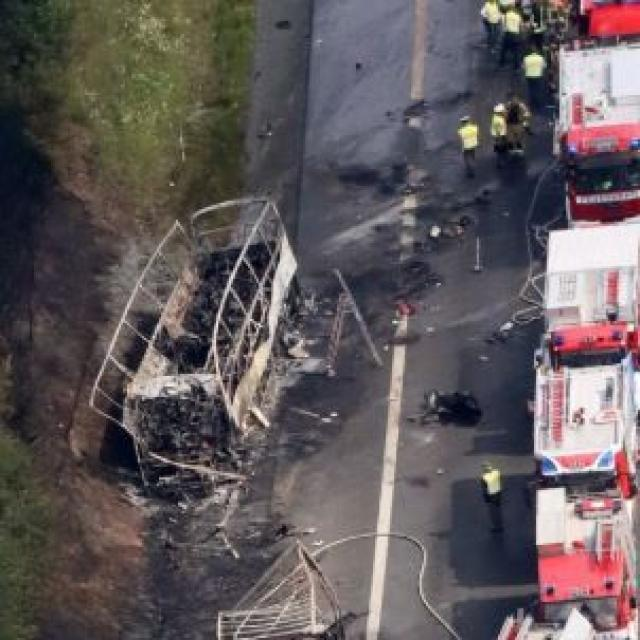traffic_incident: (76, 207, 341, 498)
